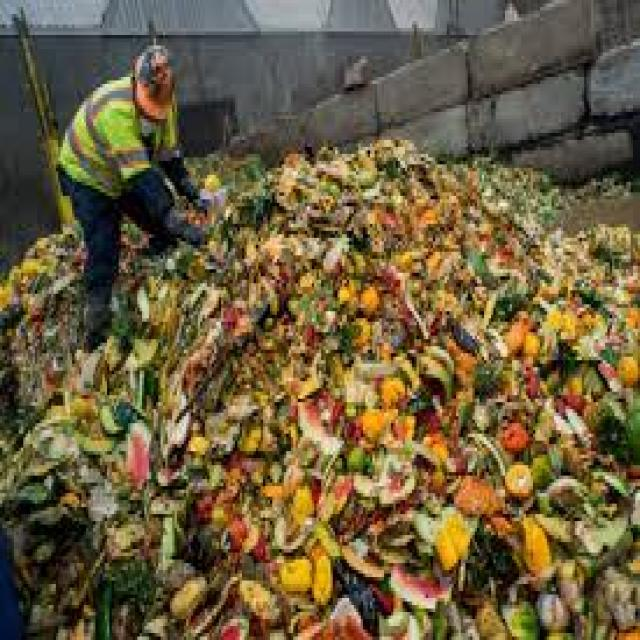food_waste: (148, 274, 585, 599)
